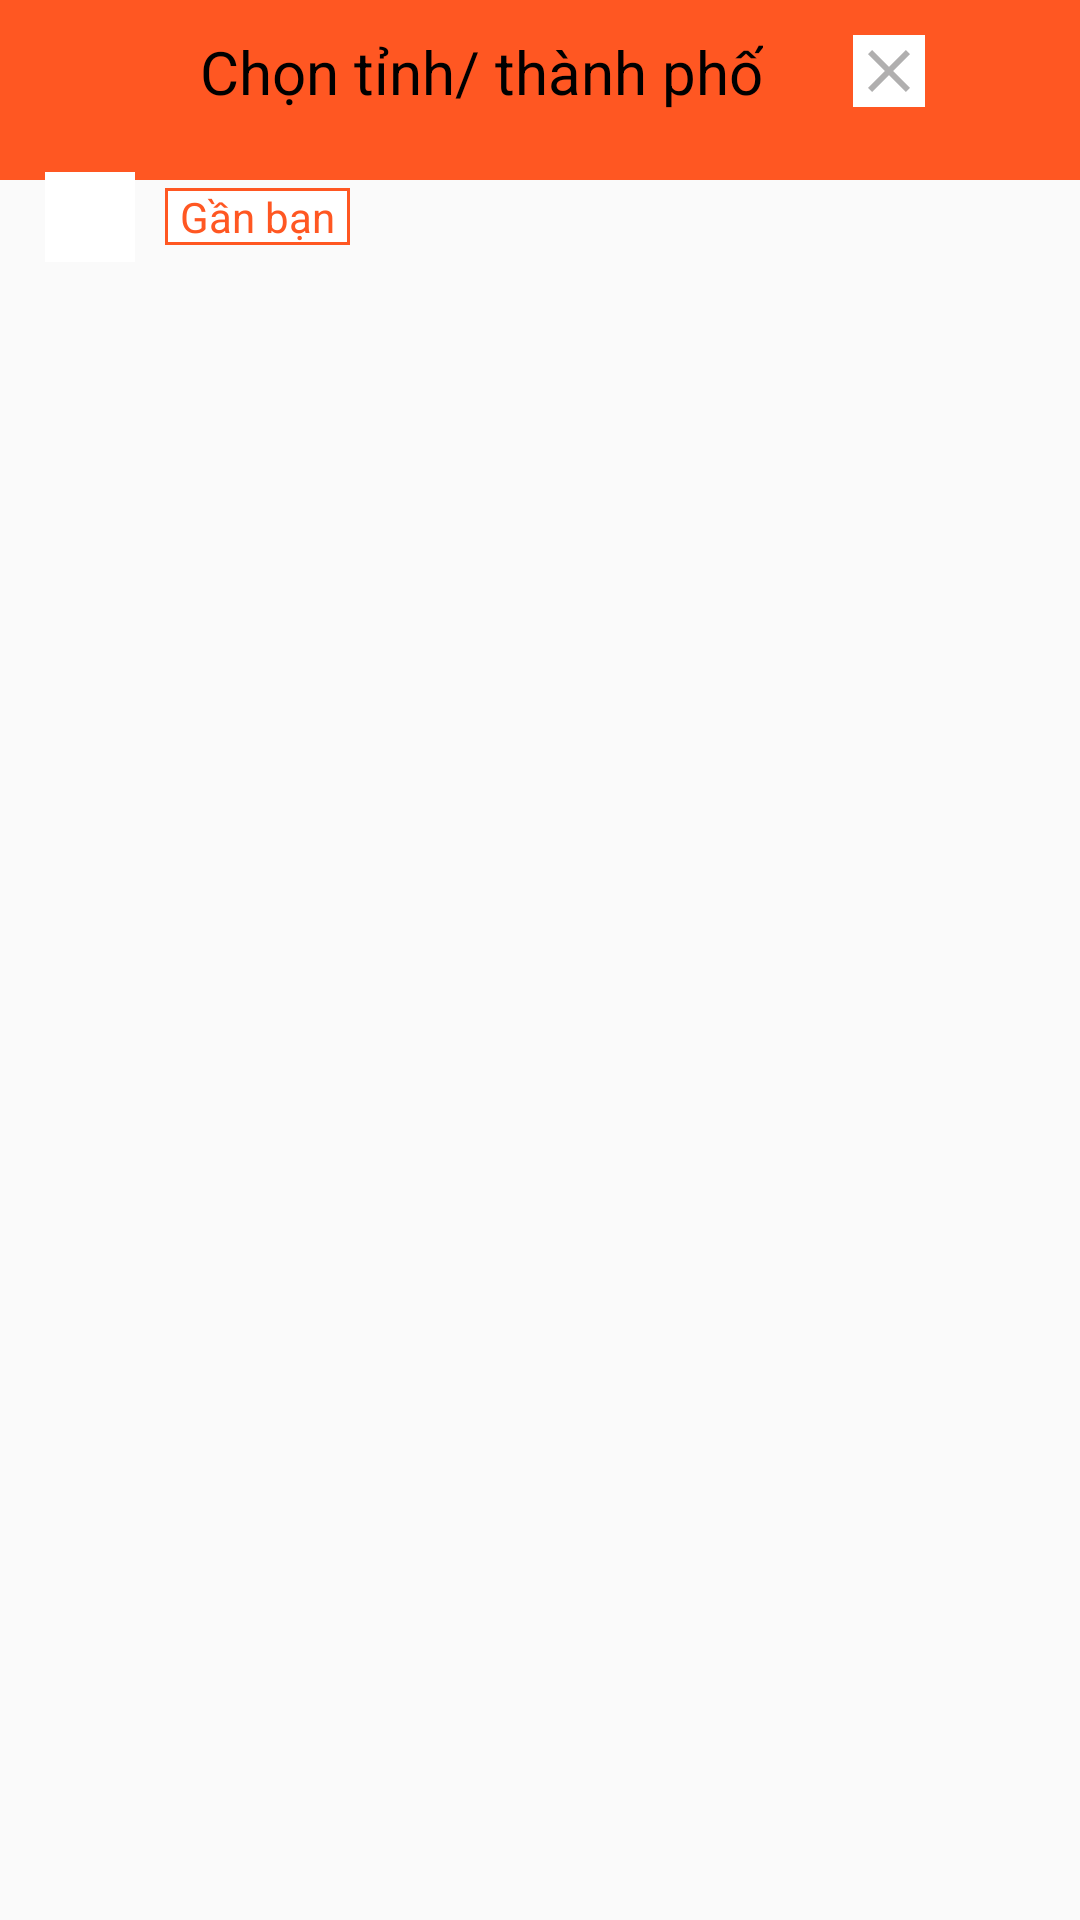

Locate icon controls on the screen. Image size 1080×1920, boxes as detection(x1, y1, x2, y2).
close: detection(853, 35, 925, 107)
